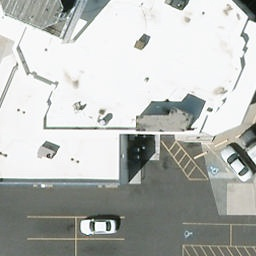car: (217, 143, 255, 180), (72, 218, 121, 234)
pickup: (238, 131, 256, 174)
